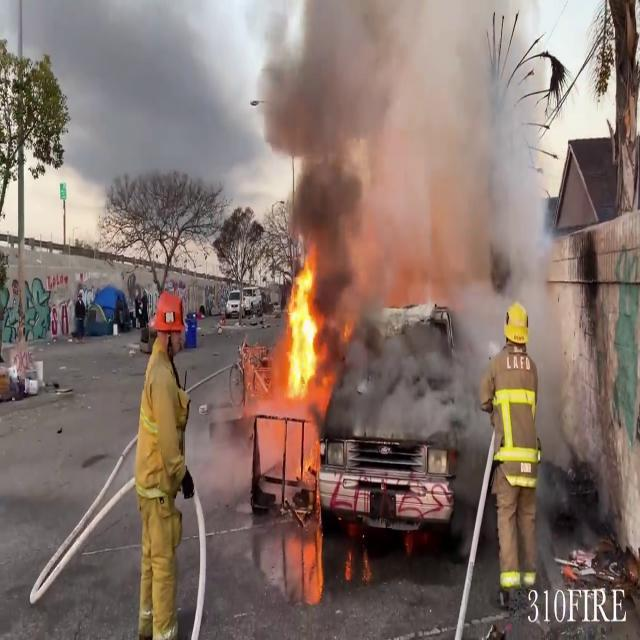Fire: (280, 254, 330, 402)
Smoke: (256, 1, 579, 432)
